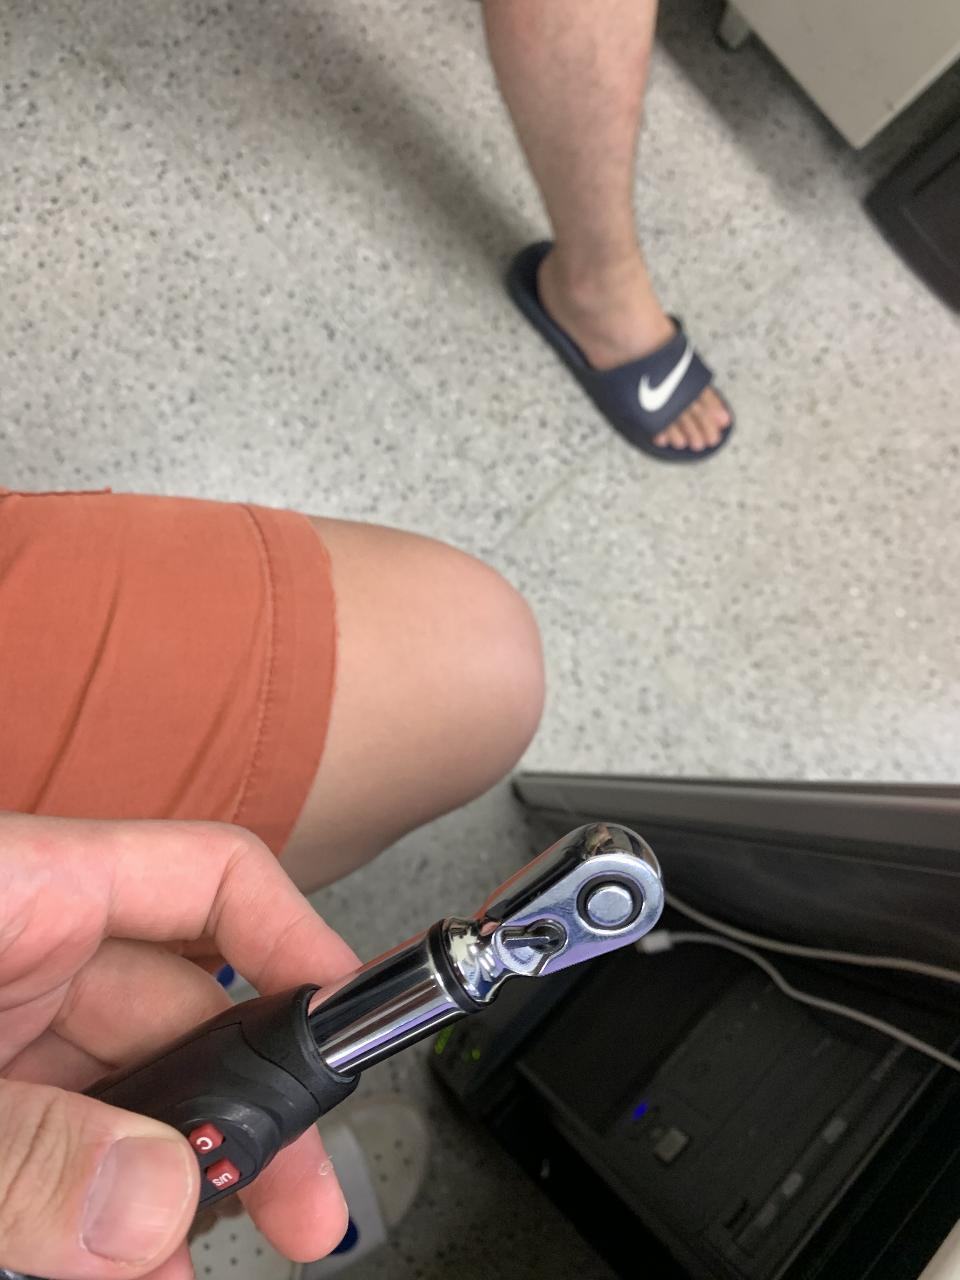Tool: (428, 815, 669, 1013)
